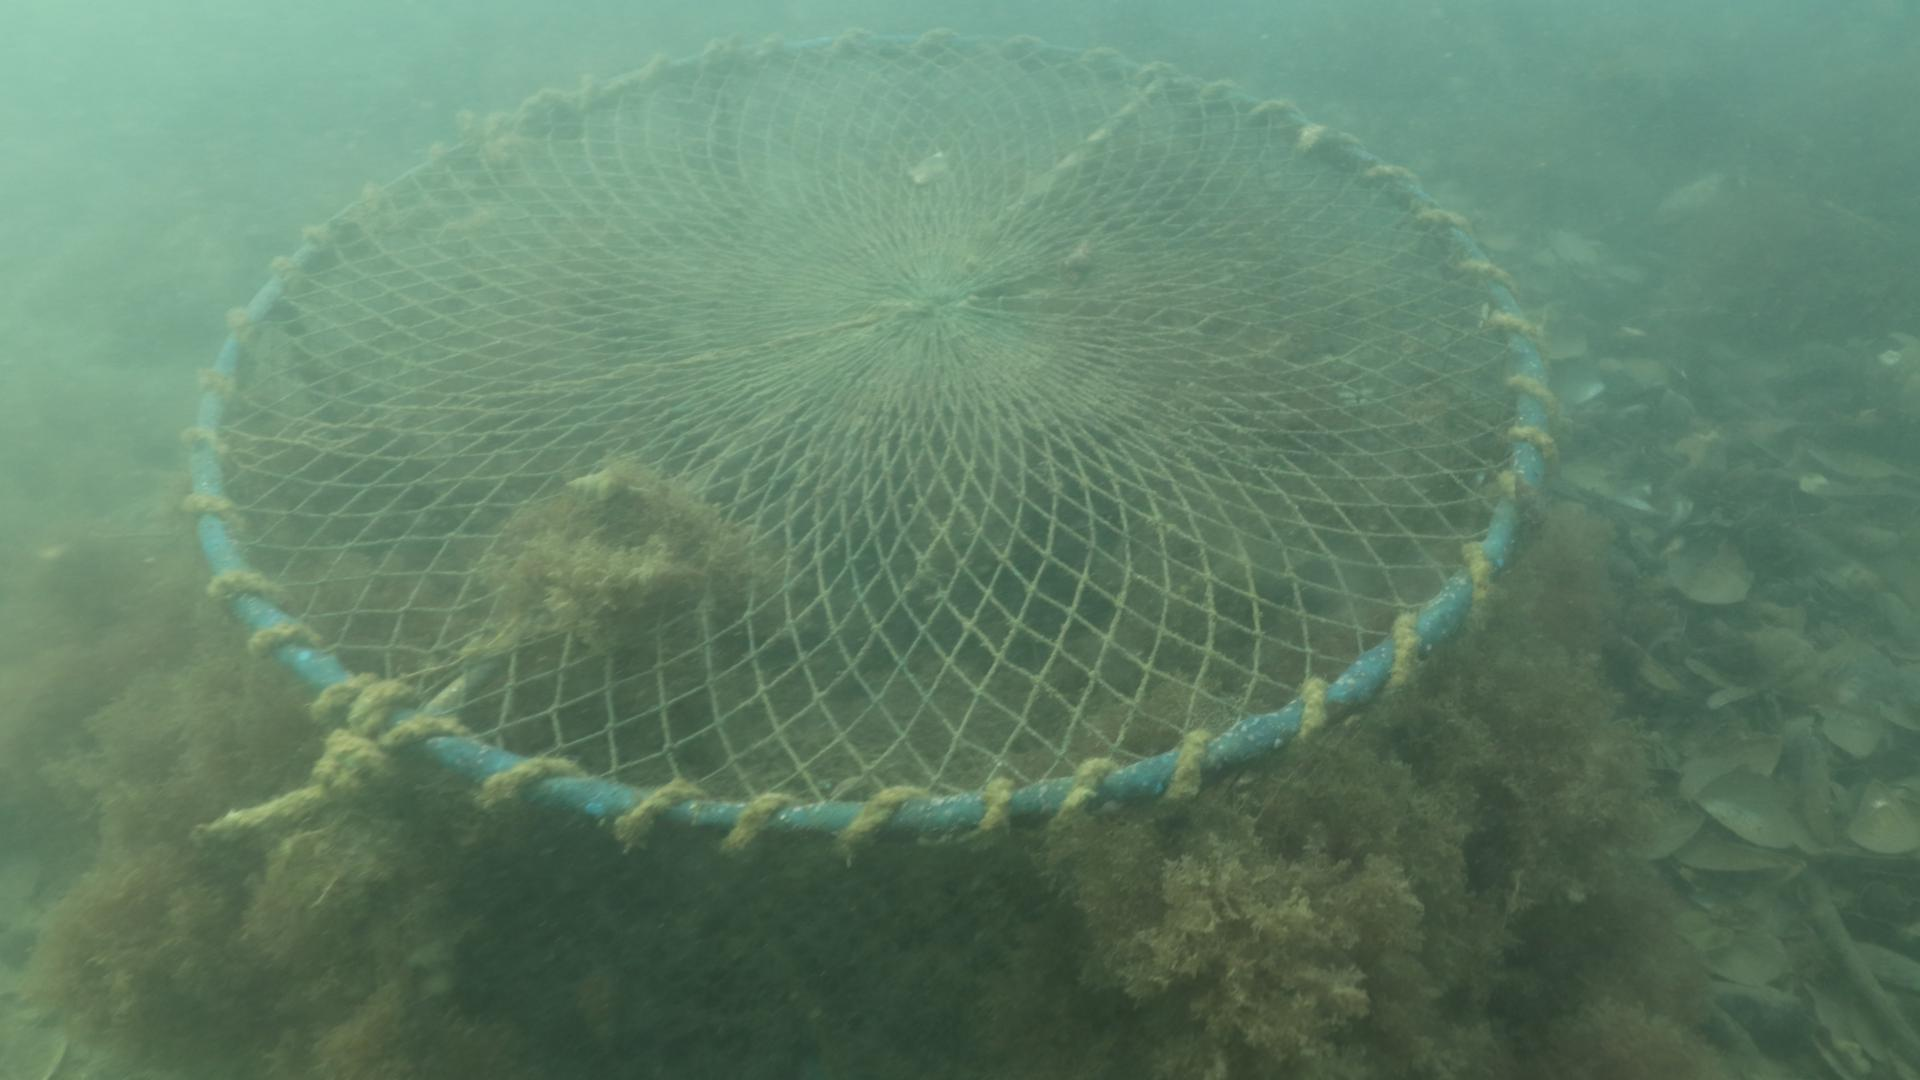circular fish trap: (185, 28, 1553, 1044)
